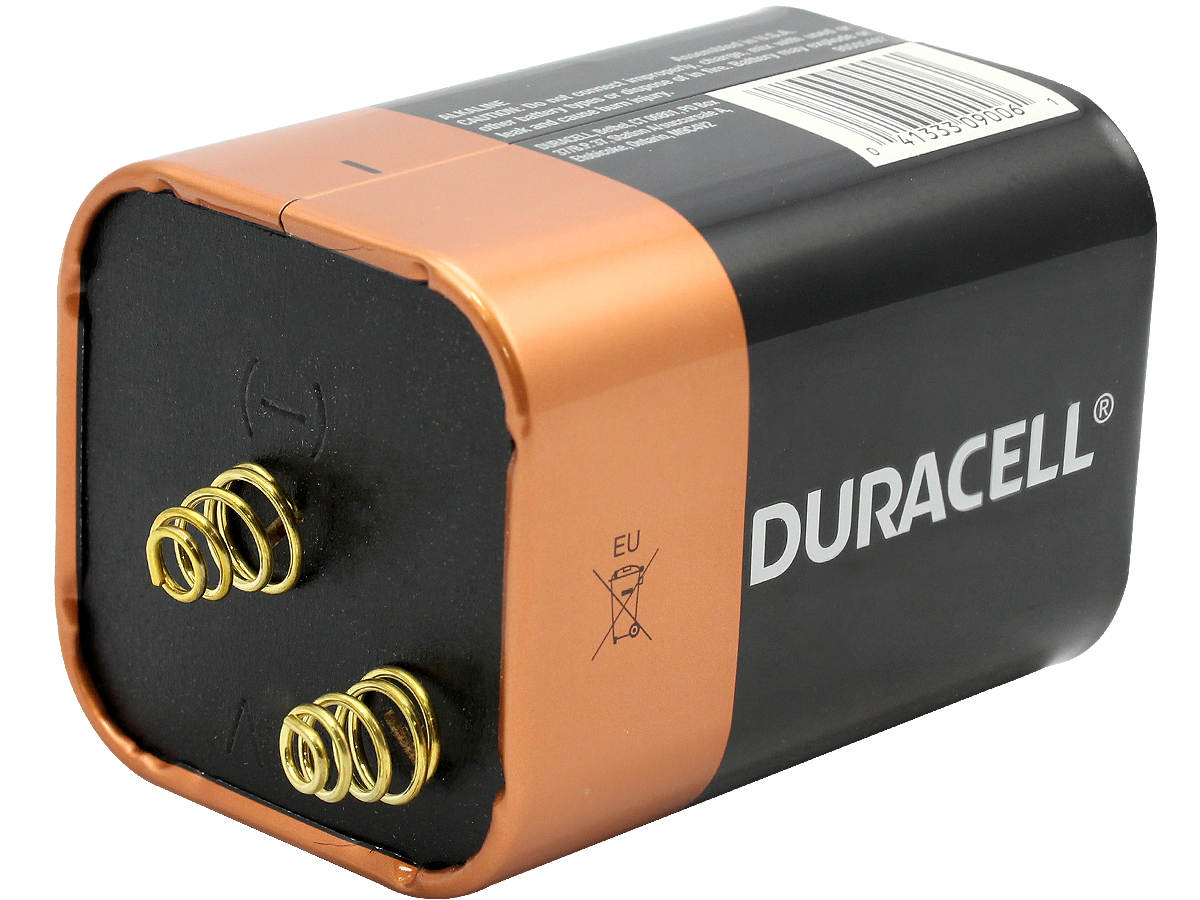6V: (35, 26, 1155, 888)
